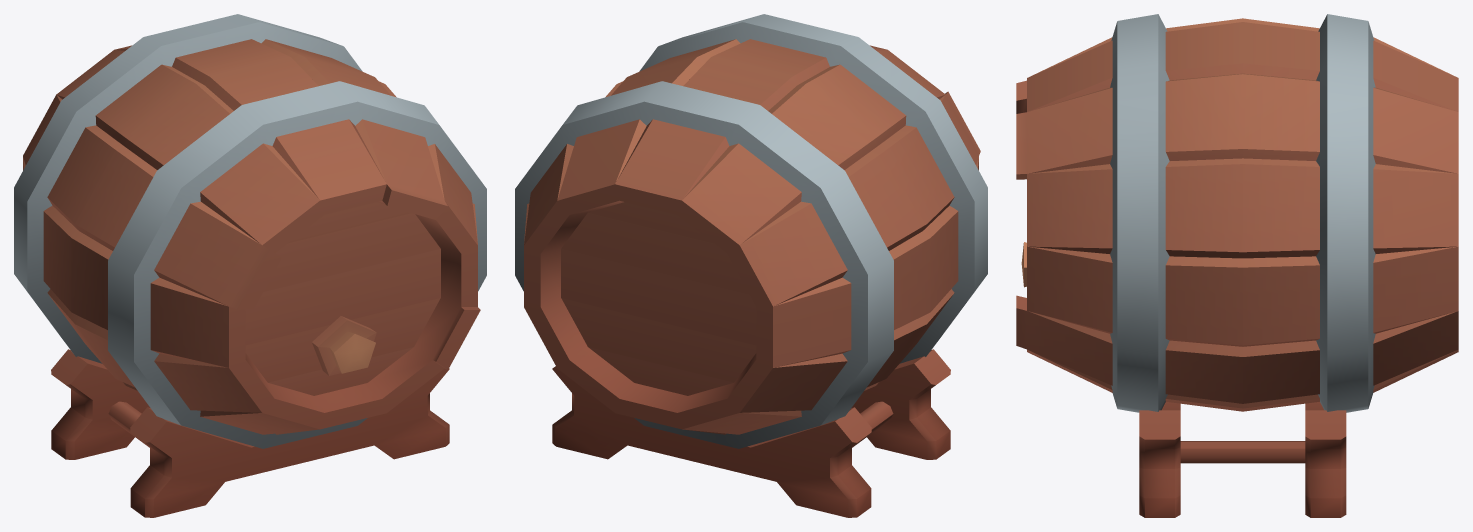
Rendered from keg.glb.
3 views of the same model, side by side, from view 1: azimuth 30°, elevation 25°; view 2: azimuth 150°, elevation 25°; view 3: azimuth 270°, elevation 25° (orthographic). The views are drawn at different scales.
Parts seen in each view (by area): view 1: keg; view 2: keg; view 3: keg.
Part boxes in pixels (bbox=[...]): keg: bbox=[14, 14, 486, 517]; keg: bbox=[515, 14, 987, 517]; keg: bbox=[1016, 14, 1458, 517].
Bounding box in the file's own units: 1 × 1 × 1.
1 material, 1 textured.
